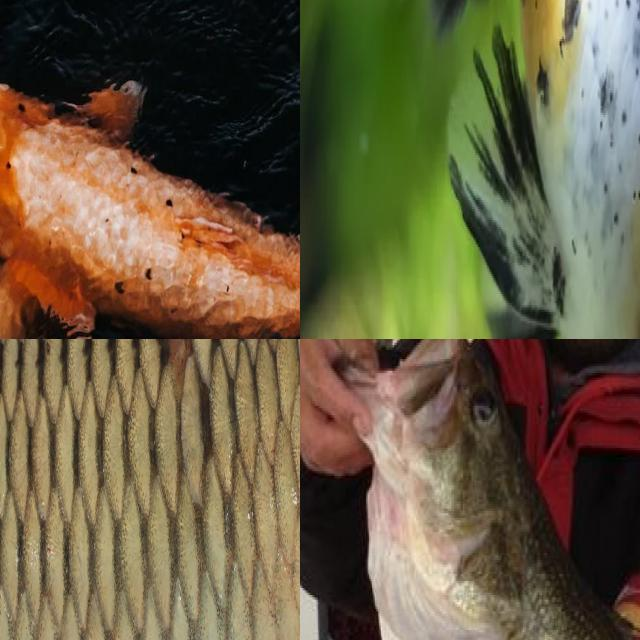fish: (0, 0, 300, 339), (0, 339, 300, 640), (344, 339, 640, 640)
